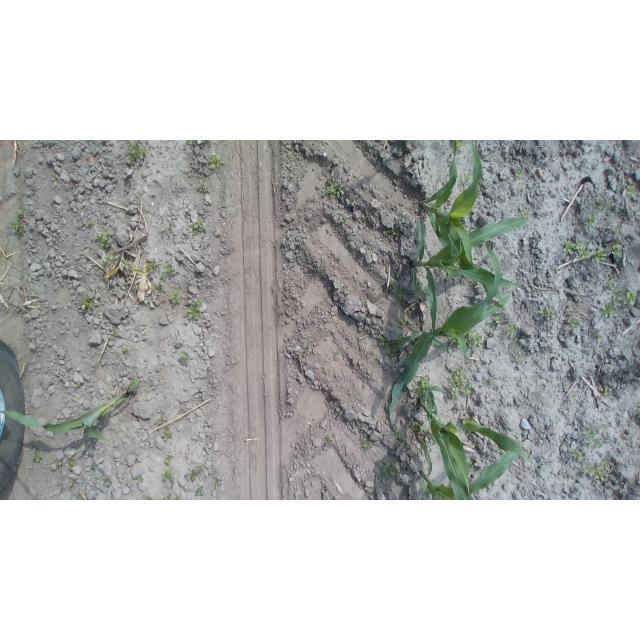Maize: (386, 265, 512, 425), (410, 217, 527, 347), (418, 382, 539, 500), (417, 141, 484, 278), (0, 378, 140, 442), (416, 433, 521, 500)
Weeds: (563, 239, 608, 262), (447, 367, 473, 402), (583, 459, 612, 481), (583, 425, 610, 448), (144, 257, 177, 275), (9, 204, 25, 234), (613, 288, 638, 307), (463, 328, 484, 348), (375, 460, 401, 476), (129, 144, 148, 165), (325, 178, 343, 198), (187, 296, 201, 320), (95, 231, 112, 250), (415, 282, 429, 305), (185, 465, 204, 481), (465, 452, 478, 475), (188, 219, 208, 233), (538, 308, 559, 321), (78, 295, 94, 312), (208, 155, 225, 171), (596, 199, 613, 214), (568, 448, 585, 461), (611, 239, 623, 257), (161, 470, 175, 485), (567, 318, 581, 333), (602, 303, 616, 318), (168, 289, 182, 304), (360, 435, 373, 451), (101, 253, 119, 264), (584, 213, 598, 227), (32, 448, 45, 463), (418, 376, 433, 388), (196, 180, 209, 193), (150, 281, 165, 292), (377, 336, 389, 349), (160, 429, 172, 442), (194, 486, 208, 497), (427, 429, 437, 444), (460, 171, 472, 183), (68, 458, 79, 471), (412, 421, 424, 432), (507, 324, 518, 336), (460, 412, 471, 424), (608, 275, 617, 289), (179, 351, 193, 360), (411, 387, 422, 398), (522, 207, 533, 218), (455, 141, 466, 152), (395, 288, 405, 300), (626, 184, 636, 196), (594, 331, 605, 341), (394, 428, 403, 440), (325, 433, 334, 445), (492, 315, 501, 327), (515, 170, 525, 180), (103, 477, 112, 488), (57, 459, 64, 473), (396, 332, 406, 341), (400, 318, 409, 328), (452, 339, 461, 349), (155, 416, 164, 425), (135, 475, 144, 484), (68, 479, 76, 489), (160, 222, 168, 232), (388, 280, 396, 289), (600, 388, 609, 396), (612, 226, 621, 234), (495, 446, 503, 455), (484, 379, 494, 386), (515, 356, 525, 363), (122, 345, 129, 355), (144, 495, 157, 500), (340, 219, 349, 226), (384, 230, 393, 237), (162, 493, 171, 500), (184, 140, 196, 145), (165, 456, 172, 464), (111, 331, 118, 339), (84, 222, 95, 227), (362, 214, 369, 221), (388, 352, 397, 357), (634, 408, 640, 415), (519, 185, 526, 191), (74, 383, 81, 389), (158, 276, 166, 281), (323, 484, 329, 490), (571, 395, 577, 401), (303, 349, 309, 355), (280, 309, 286, 315), (173, 496, 181, 500), (335, 256, 341, 261), (216, 482, 221, 487), (384, 285, 387, 292), (481, 171, 483, 176)
